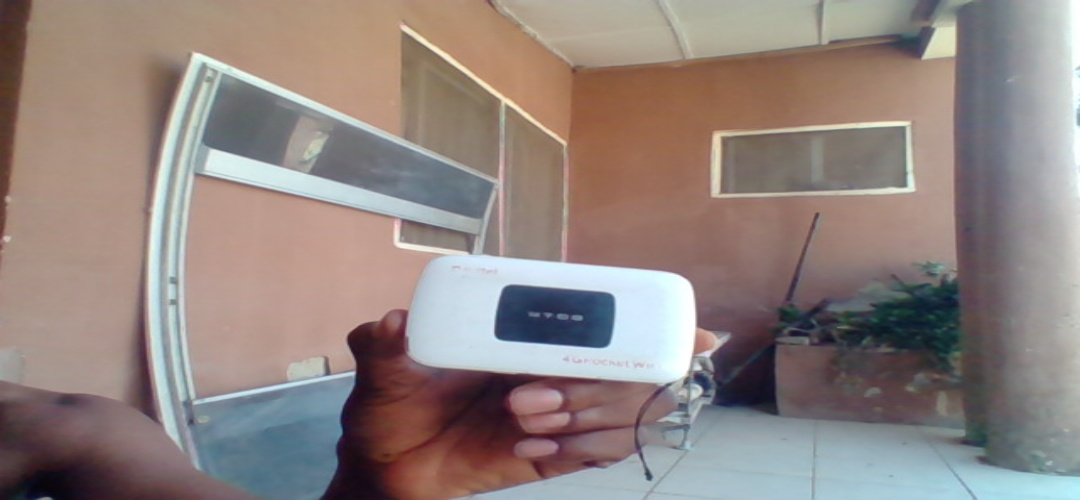mifi: (402, 247, 699, 390)
